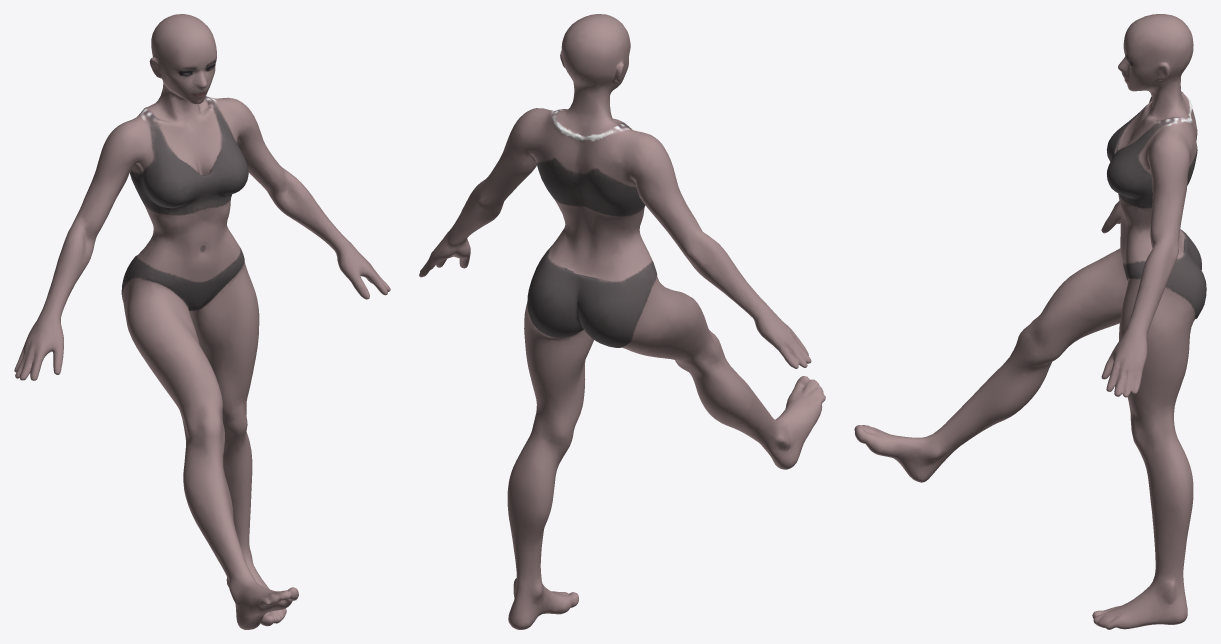
File: full-ThighL-45.glb
3 renders of one model, left to right at view 1: azimuth 30°, elevation 25°; view 2: azimuth 150°, elevation 25°; view 3: azimuth 270°, elevation 25°, orthographic. The views are drawn at different scales.
Visible parts, largest first — view 1: full-ThighL-45; view 2: full-ThighL-45; view 3: full-ThighL-45.
Part boxes in pixels (bbox=[...]): full-ThighL-45: bbox=[14, 14, 390, 629]; full-ThighL-45: bbox=[419, 14, 825, 629]; full-ThighL-45: bbox=[854, 14, 1206, 629].
Bounding box in the file's own units: 0.6509 × 1 × 0.5517.
1 material, 1 textured.
